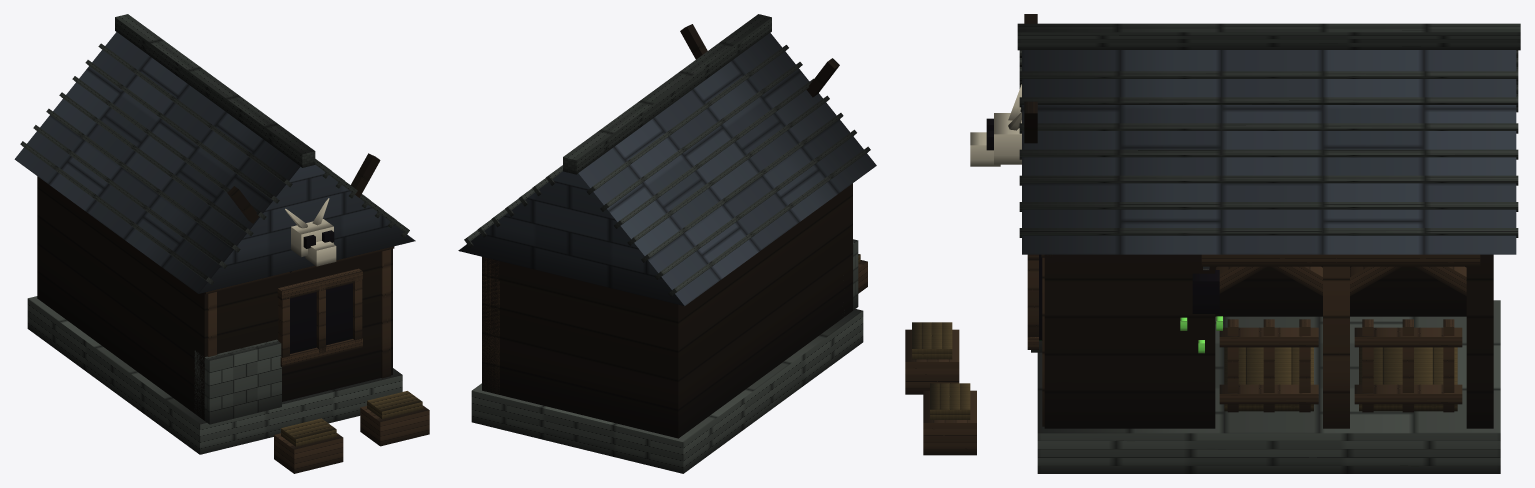
File: stable.obj
The picture shows the model from 3 angles, left to right: view 1: azimuth 30°, elevation 25°; view 2: azimuth 150°, elevation 25°; view 3: azimuth 270°, elevation 25°; orthographic projection. The views are drawn at different scales.
Visible parts, largest first — view 1: stable; view 2: stable; view 3: stable.
Part boxes in pixels (left/top/right/bottom): stable: left=14, top=14, right=429, bottom=473; stable: left=458, top=14, right=876, bottom=473; stable: left=905, top=14, right=1520, bottom=473.
Bounding box in the file's own units: 1.5 × 1.87 × 2.74.
Materials: 1 (1 with a texture image).
